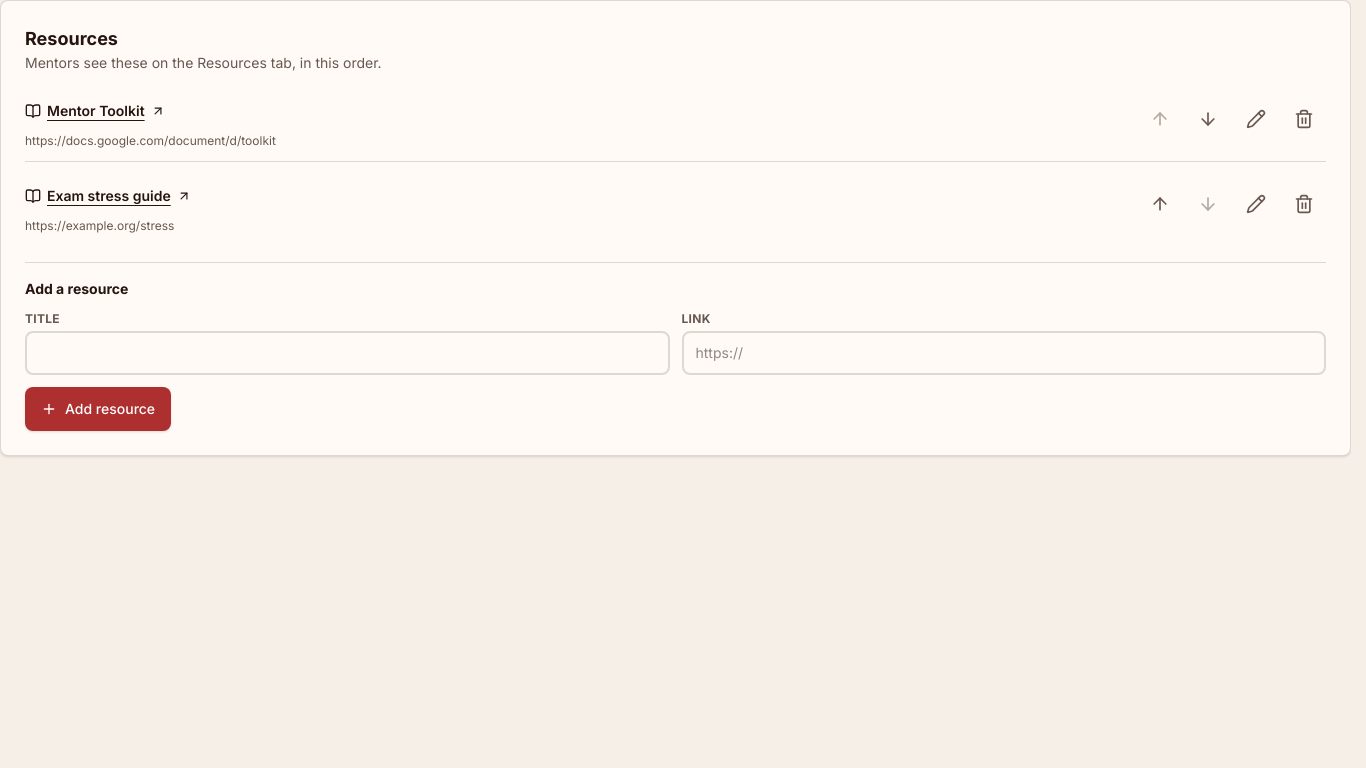
Test: ResourcesManager › removes a Resource only after confirming
Click the button named "Remove Exam stress guide" at (1304, 204), box [1282, 182, 1326, 226]
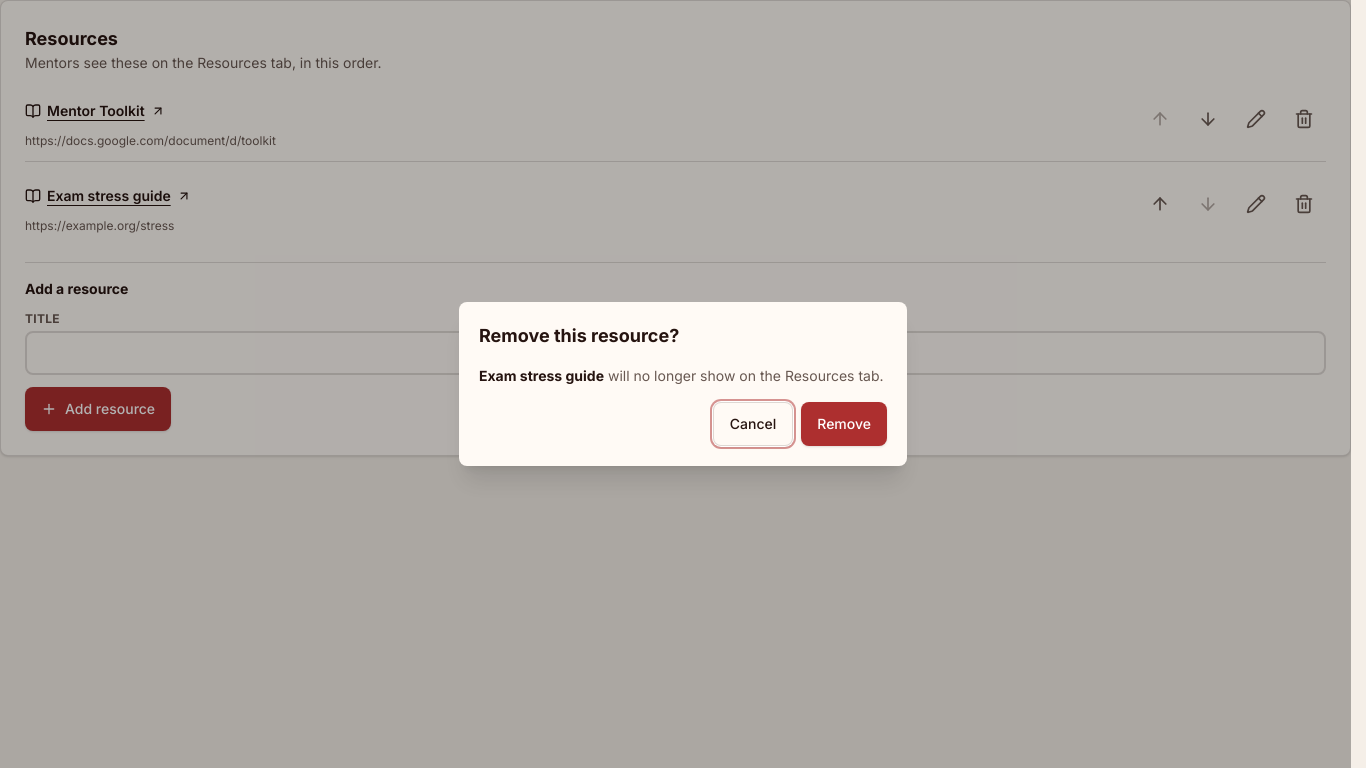
Result: the dialog "Remove this resource?" shows "Exam stress guide will no longer show on the Resources tab."
Click the button "Cancel" at (753, 424), box [713, 402, 793, 446]
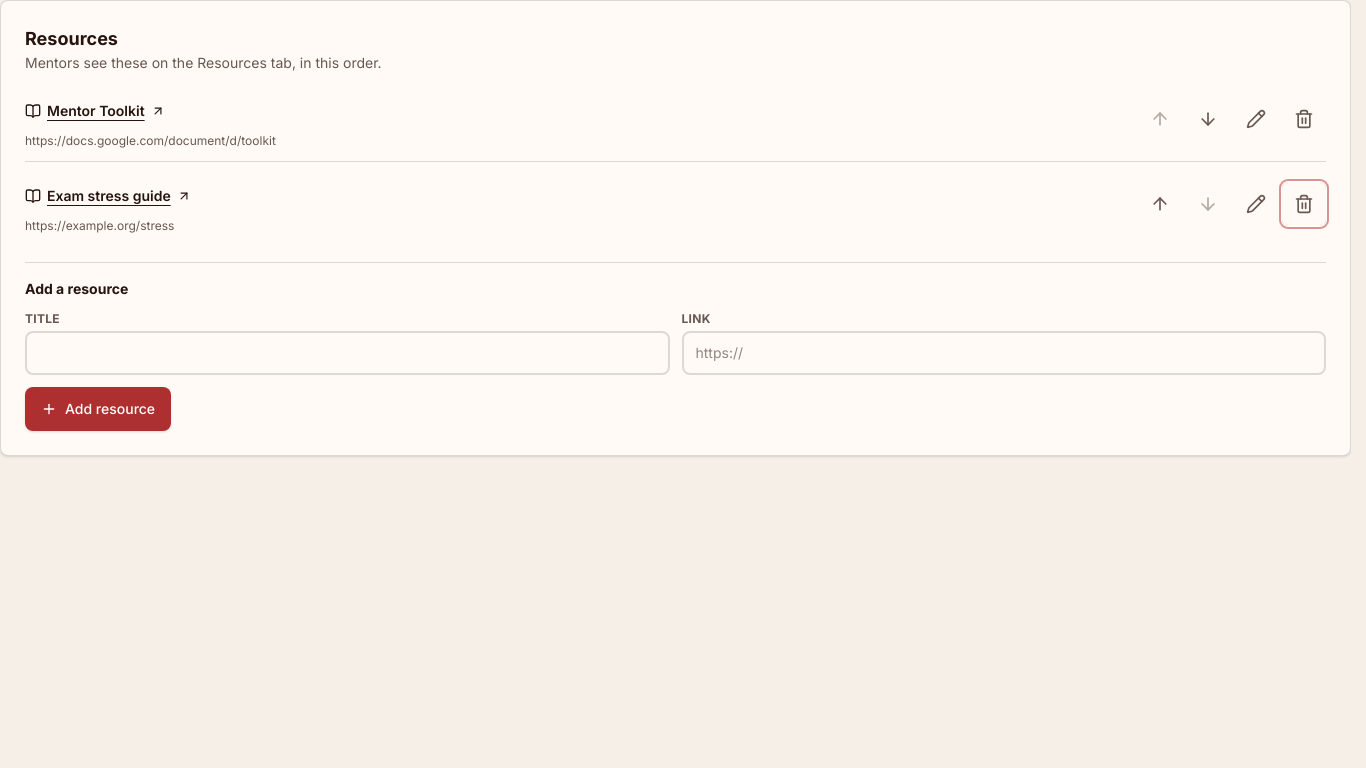
Result: the dialog is gone
Click the button named "Remove Exam stress guide" at (1304, 204), box [1282, 182, 1326, 226]
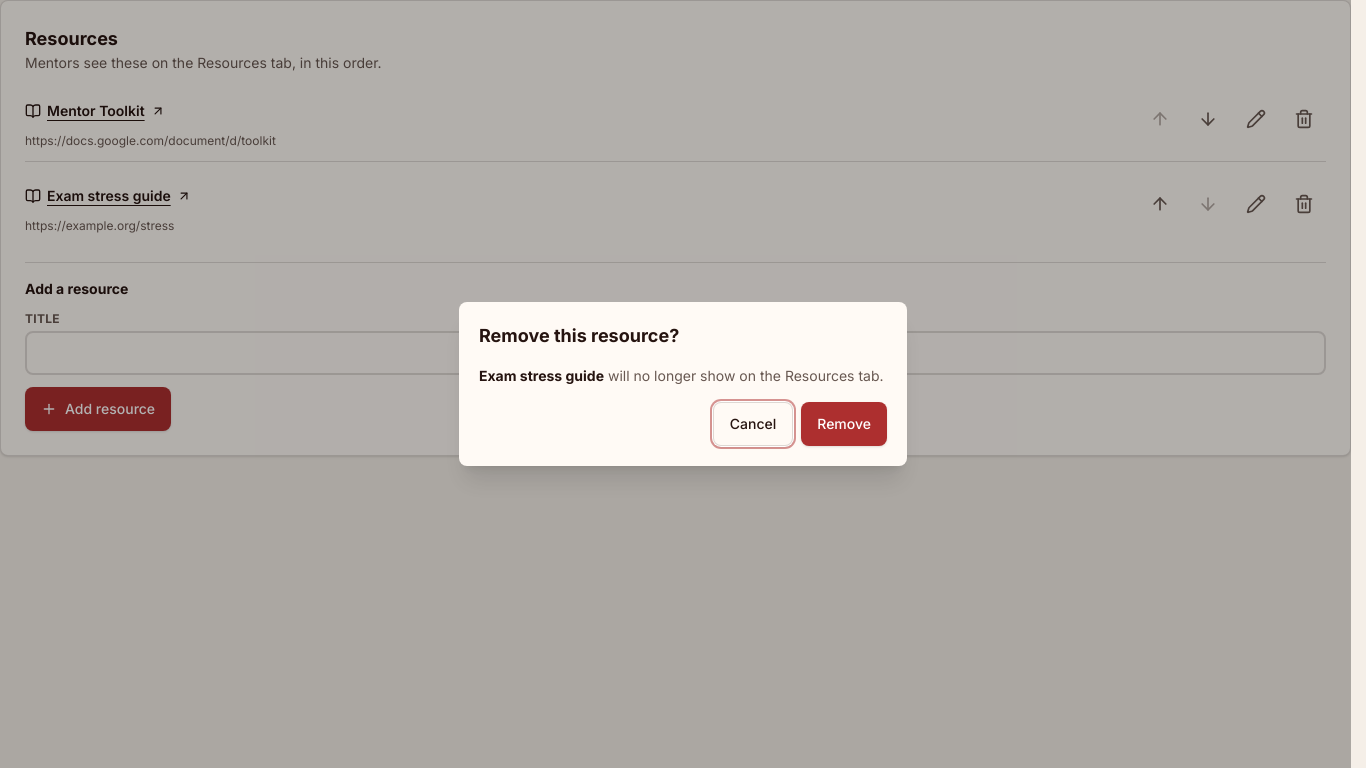
Click the button "Remove" at (844, 424), box [801, 402, 887, 446]
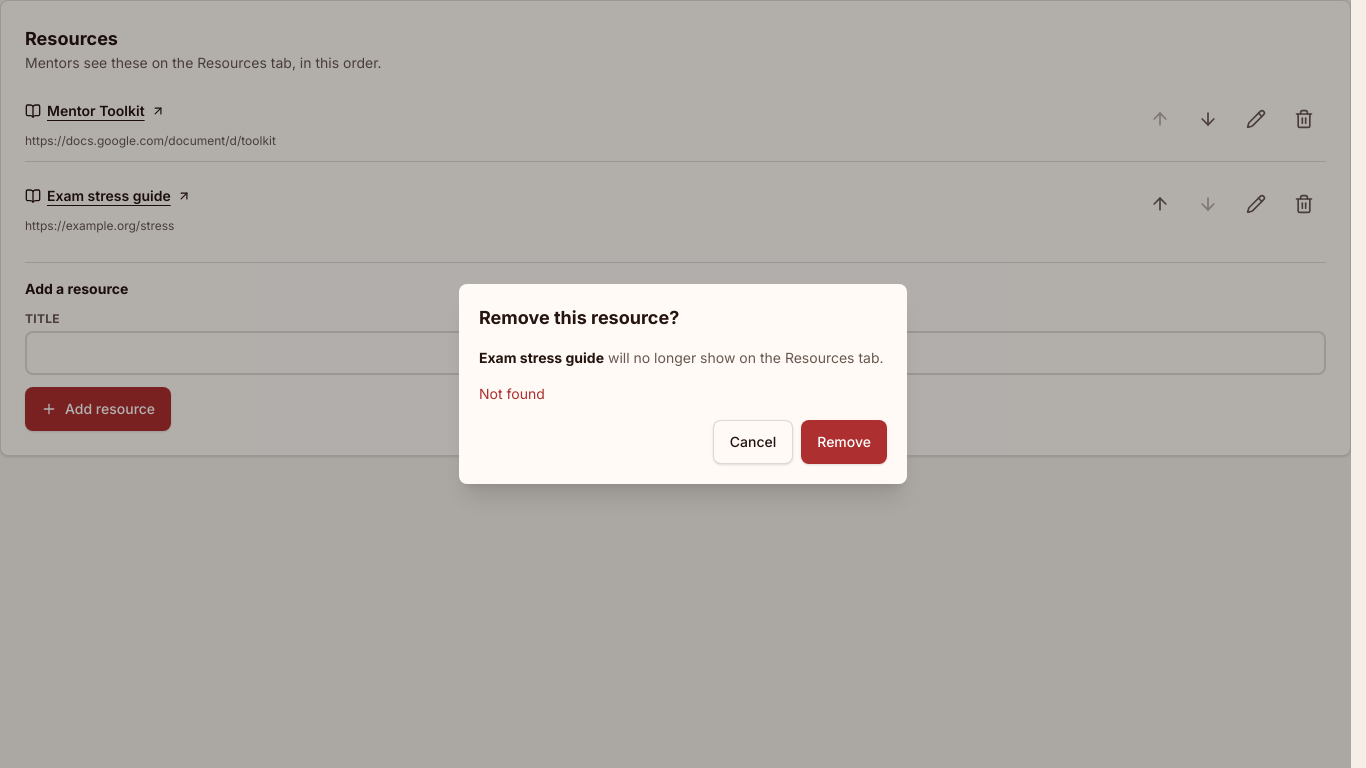
Result: the message reads "Not found" at [479, 385, 545, 402]
Click the button "Remove" at (844, 442), box [801, 420, 887, 464]
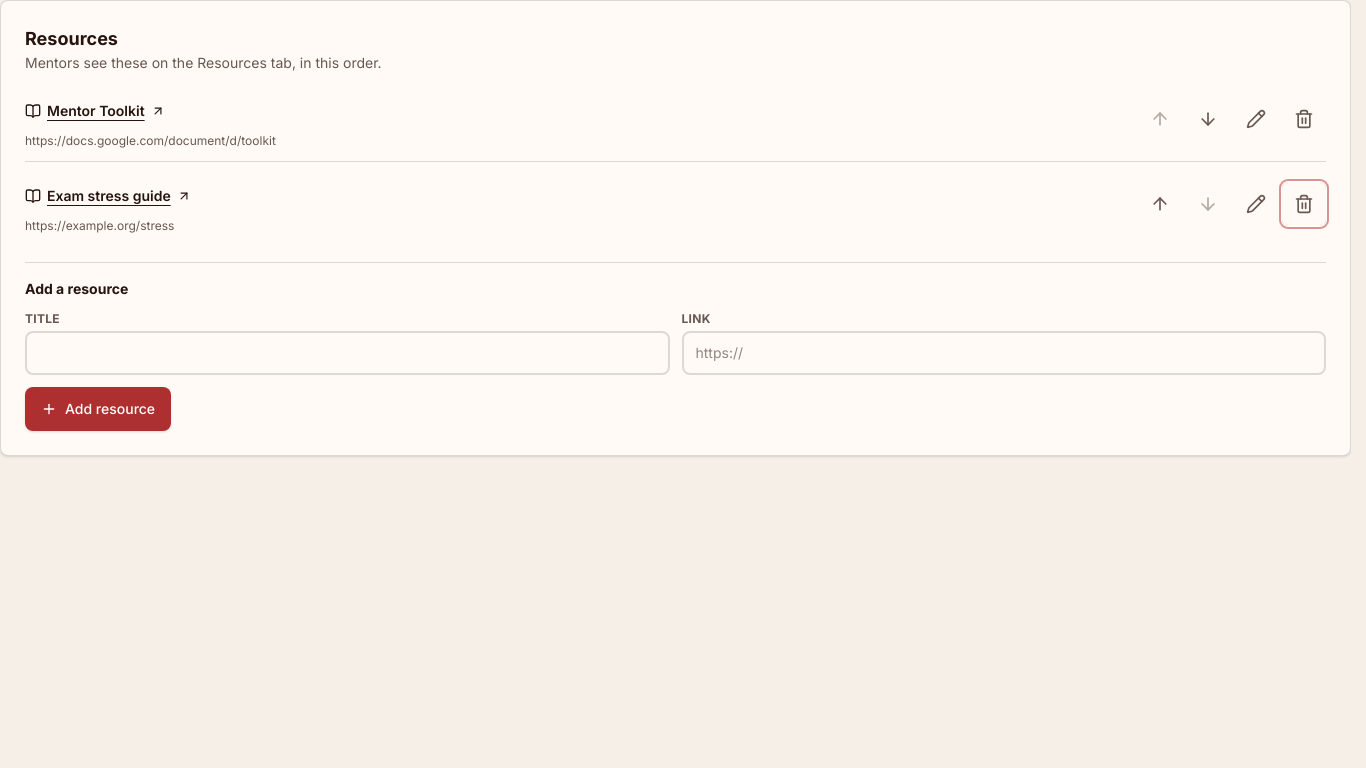
Result: the dialog is gone
